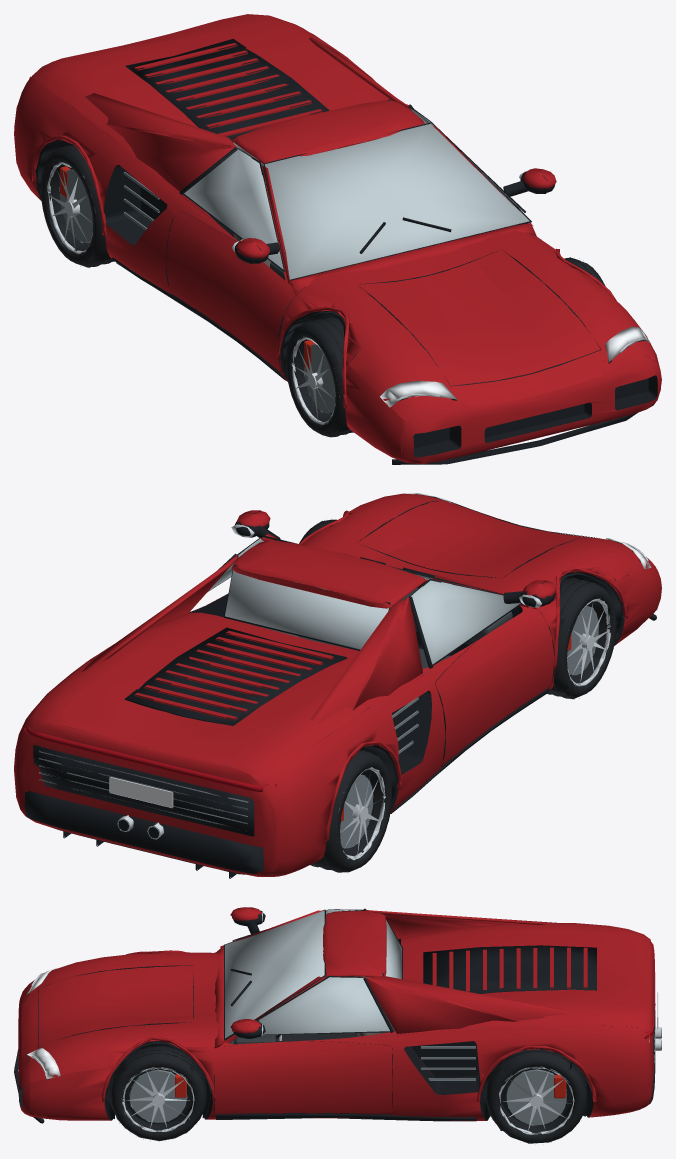
The model's file is GenericMidEngineSupercar.fbx.
3 views of the same model, one above another, from view 1: azimuth 30°, elevation 25°; view 2: azimuth 150°, elevation 25°; view 3: azimuth 270°, elevation 25° (orthographic). The views are drawn at different scales.
Visible parts, largest first — view 1: GenericMidEngineSupercar, wheel4, wheel2; view 2: GenericMidEngineSupercar, wheel4, wheel2; view 3: GenericMidEngineSupercar, wheel3, wheel1.
Boxes of the visible parts, x1=… form: GenericMidEngineSupercar: x1=14, y1=14, x2=661, y2=464; wheel4: x1=40, y1=145, x2=114, y2=267; wheel2: x1=286, y1=317, x2=352, y2=437; GenericMidEngineSupercar: x1=14, y1=493, x2=661, y2=878; wheel4: x1=311, y1=750, x2=392, y2=872; wheel2: x1=548, y1=578, x2=616, y2=699; GenericMidEngineSupercar: x1=14, y1=907, x2=661, y2=1142; wheel3: x1=486, y1=1049, x2=586, y2=1143; wheel1: x1=111, y1=1046, x2=205, y2=1141.
Bounding box in the file's own units: 209 × 119 × 463.
Materials: 12 (12 with a texture image).
